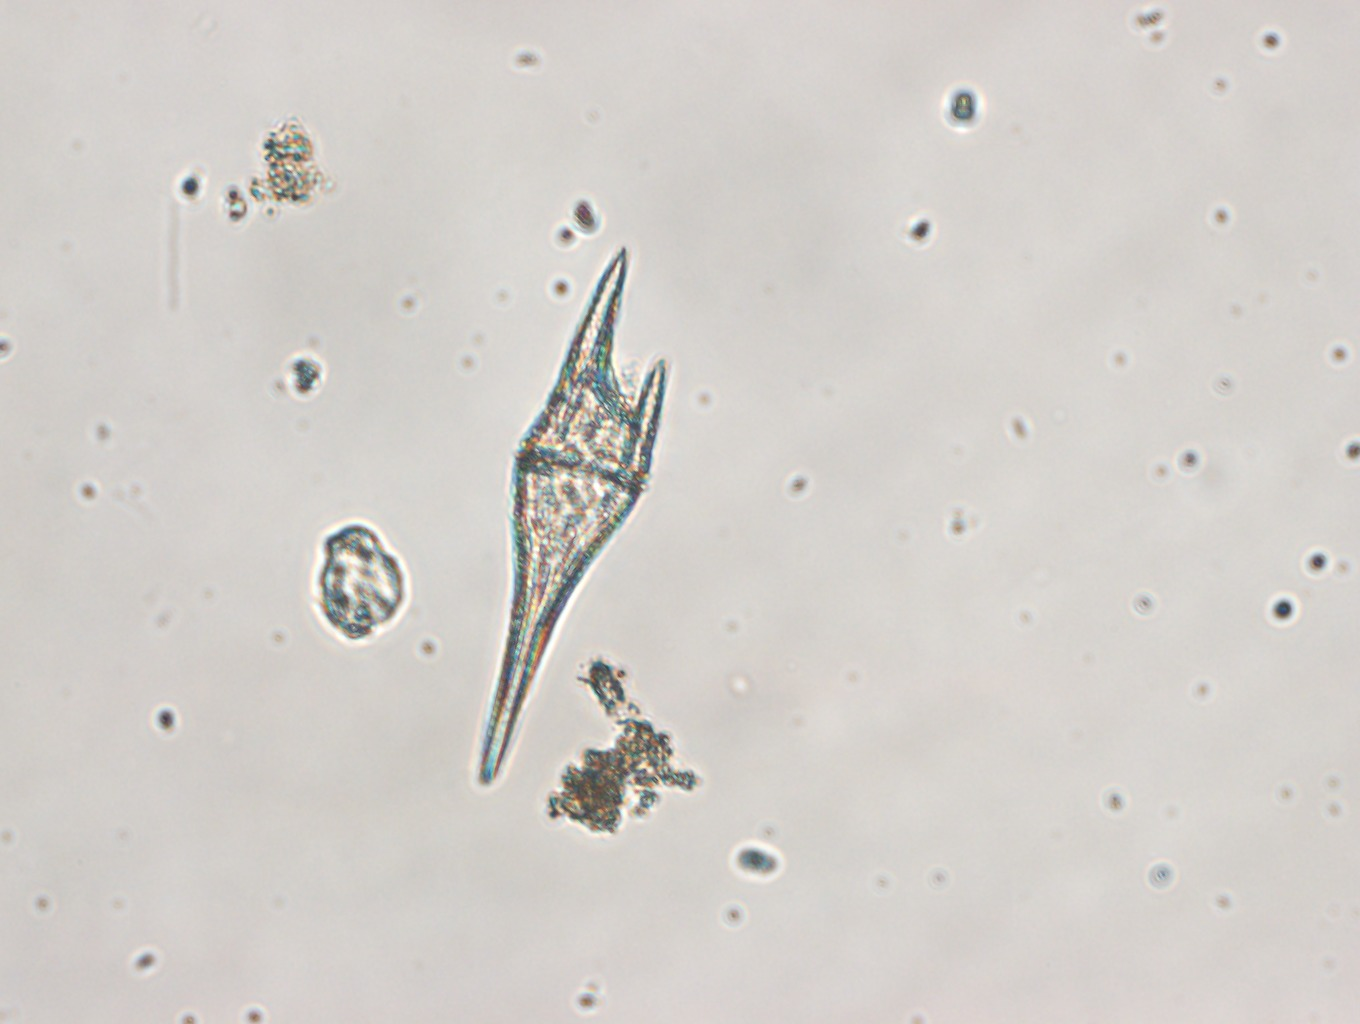ceratium furca: (479, 248, 668, 790)
